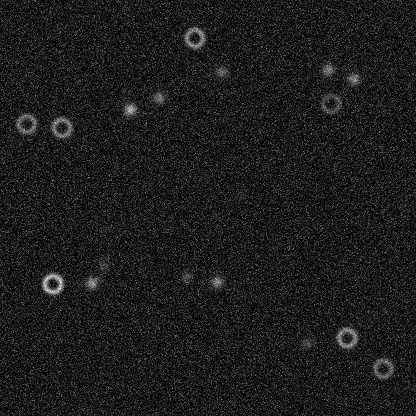Ring: (371, 356, 395, 380), (318, 91, 342, 115), (49, 115, 73, 139), (40, 271, 64, 295), (182, 25, 206, 49), (14, 111, 38, 135), (334, 325, 358, 349)
Spot: (319, 61, 335, 77), (213, 63, 229, 79), (178, 268, 194, 284), (208, 273, 224, 289), (232, 186, 248, 202), (99, 220, 115, 236), (298, 335, 314, 351), (150, 89, 166, 105), (345, 70, 361, 86), (95, 257, 111, 273), (83, 274, 99, 290), (121, 101, 137, 117)
